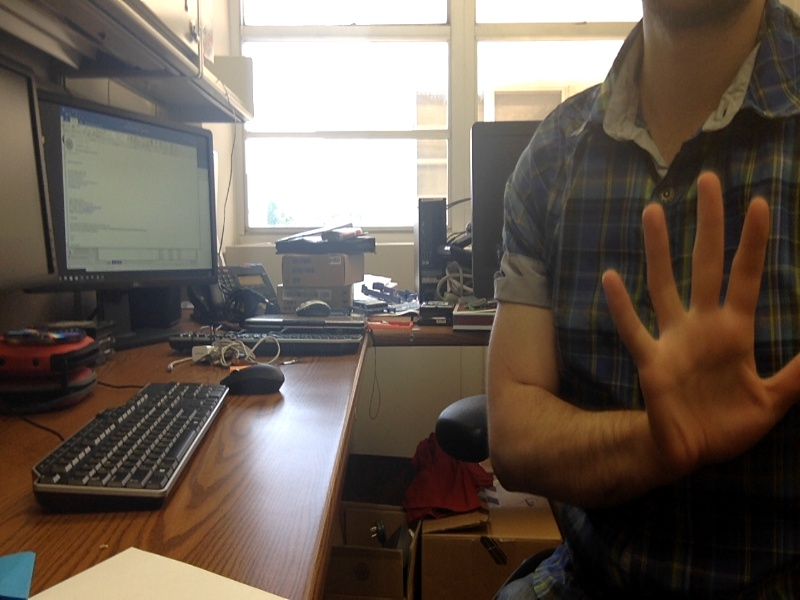5-hand: (598, 169, 800, 468)
